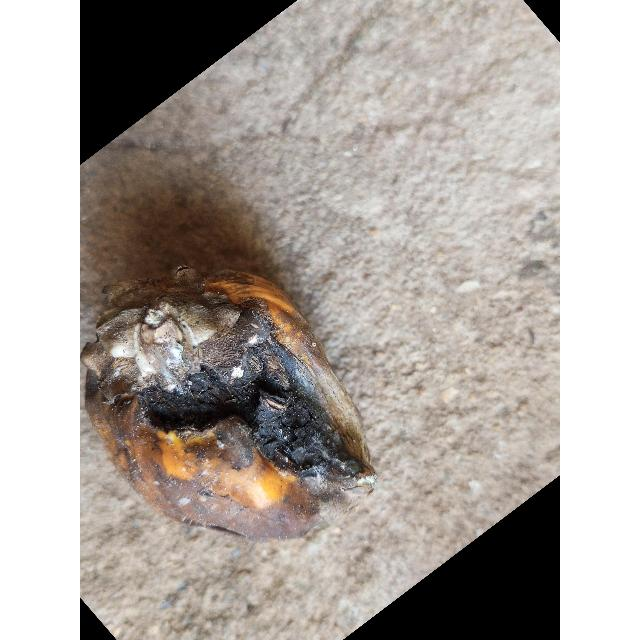damaged: (84, 272, 375, 542)
